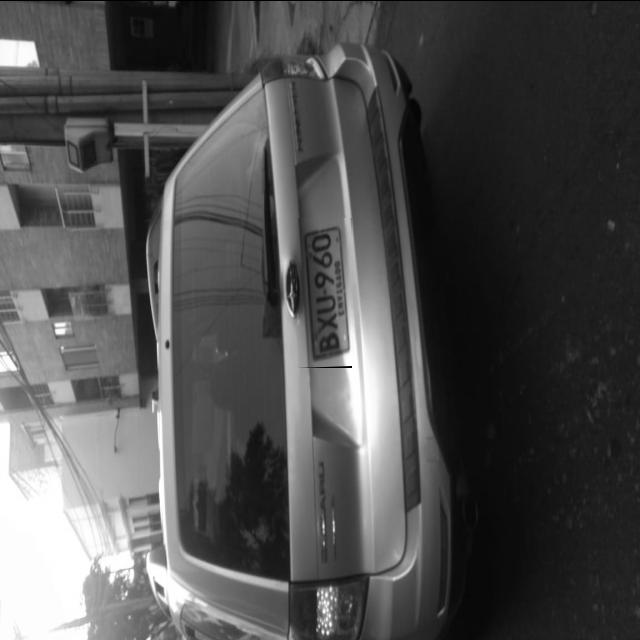plate: (298, 217, 352, 366)
